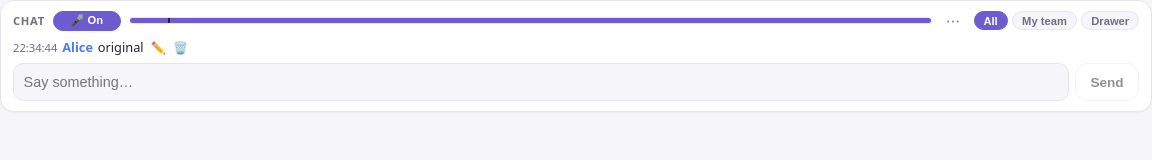
an empty correction is refused locally rather than sent
Click the button named "Edit your message" at (158, 48), box [148,42,168,54]
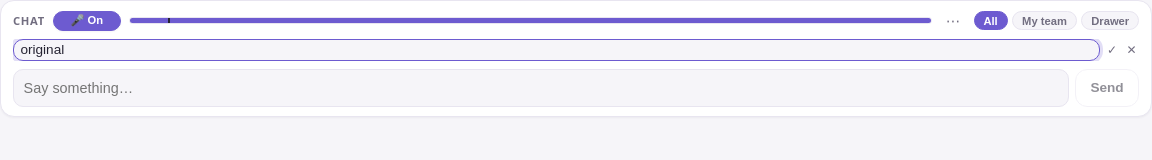
Clear the field showing "original" at (556, 50), box [13,39,1100,61]
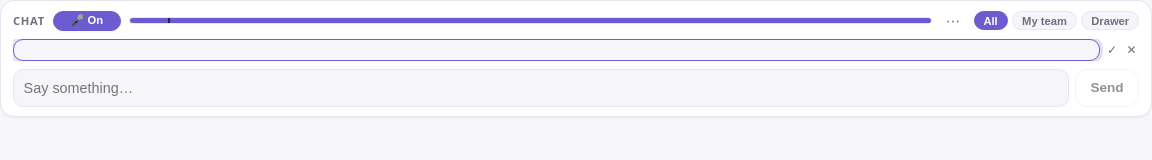
Click the button named "Save correction" at (1112, 50), box [1104,44,1119,56]
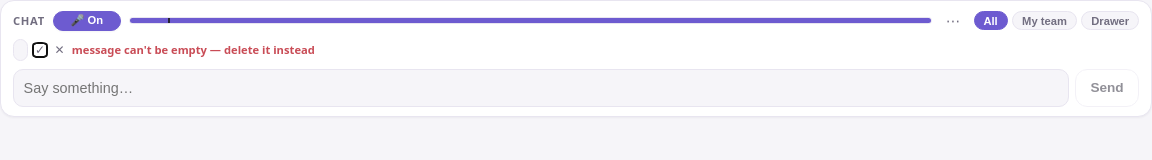
expect the text "message can't be empty — delete it instead" is shown: met, box [72,42,315,57]
